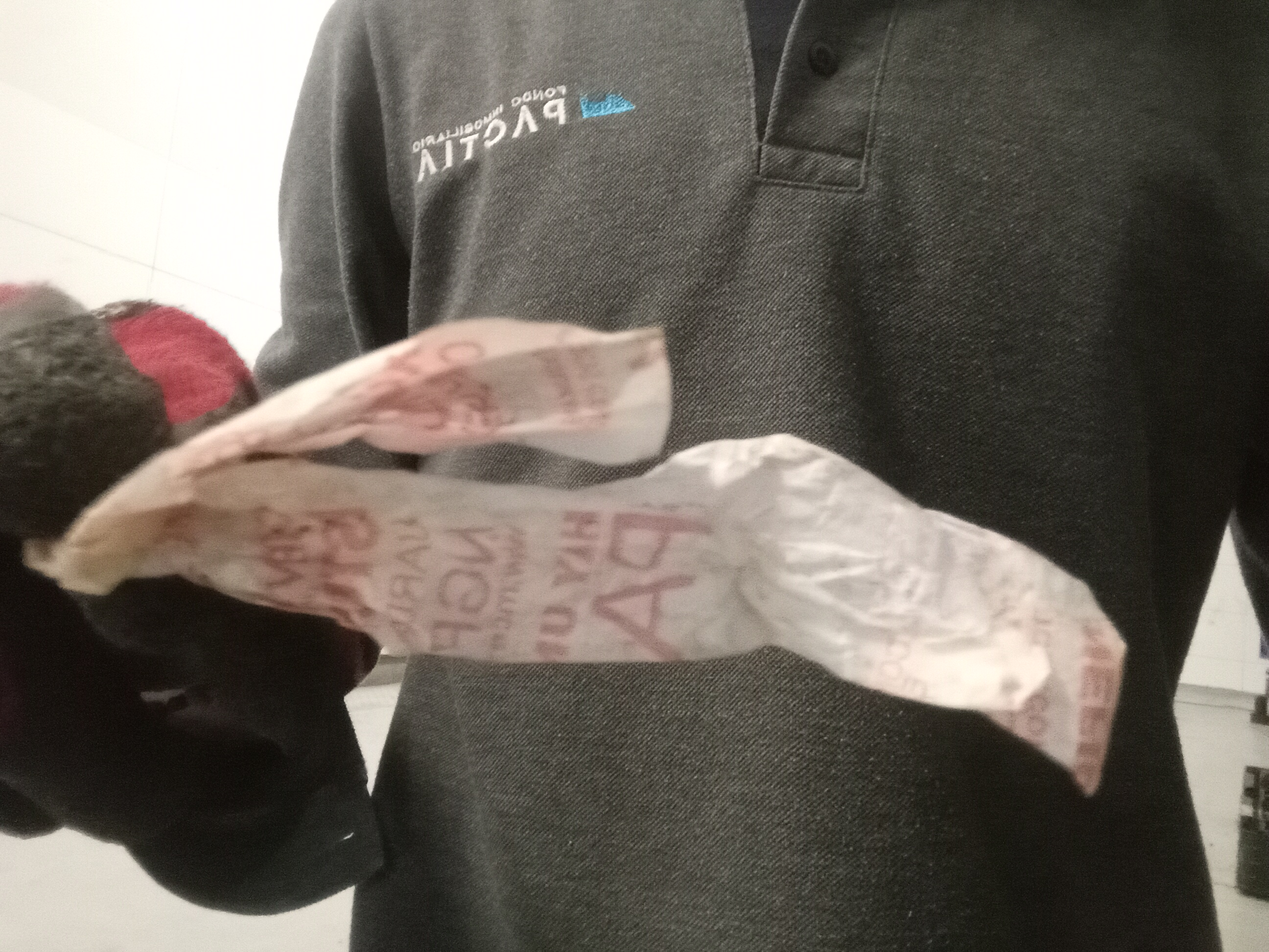Papel: (61, 316, 1127, 797)
